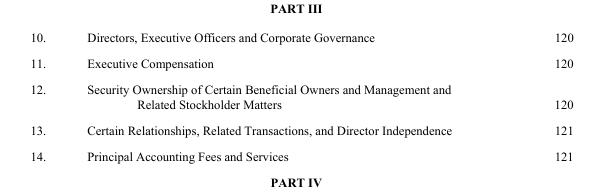table: (29, 29, 572, 162)
table column: (65, 29, 502, 162), (502, 29, 572, 162), (29, 29, 65, 162)
table column header: (29, 29, 572, 49)
table row: (29, 75, 572, 116), (29, 49, 572, 75), (29, 116, 572, 142), (29, 29, 572, 49), (29, 142, 572, 162)
